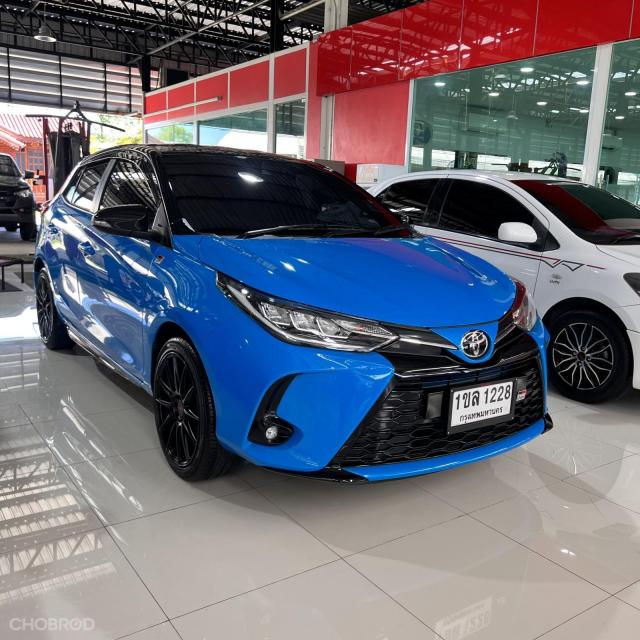license_plate: (440, 368, 523, 445)
